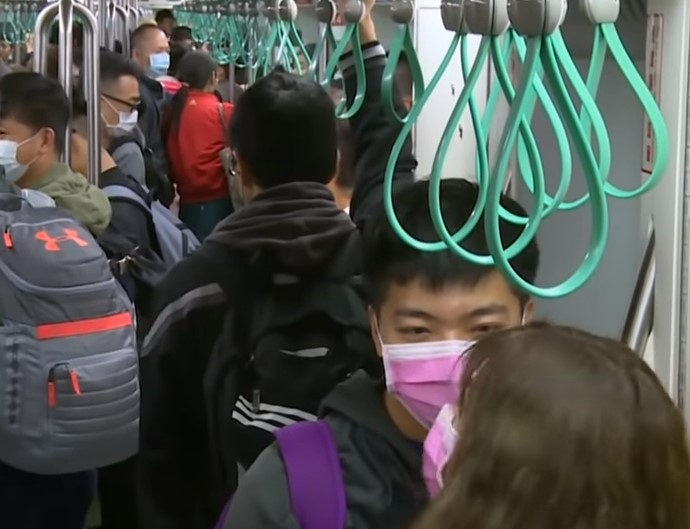face_with_mask: (364, 179, 536, 435), (2, 69, 67, 184), (96, 54, 142, 141), (132, 23, 171, 83)
